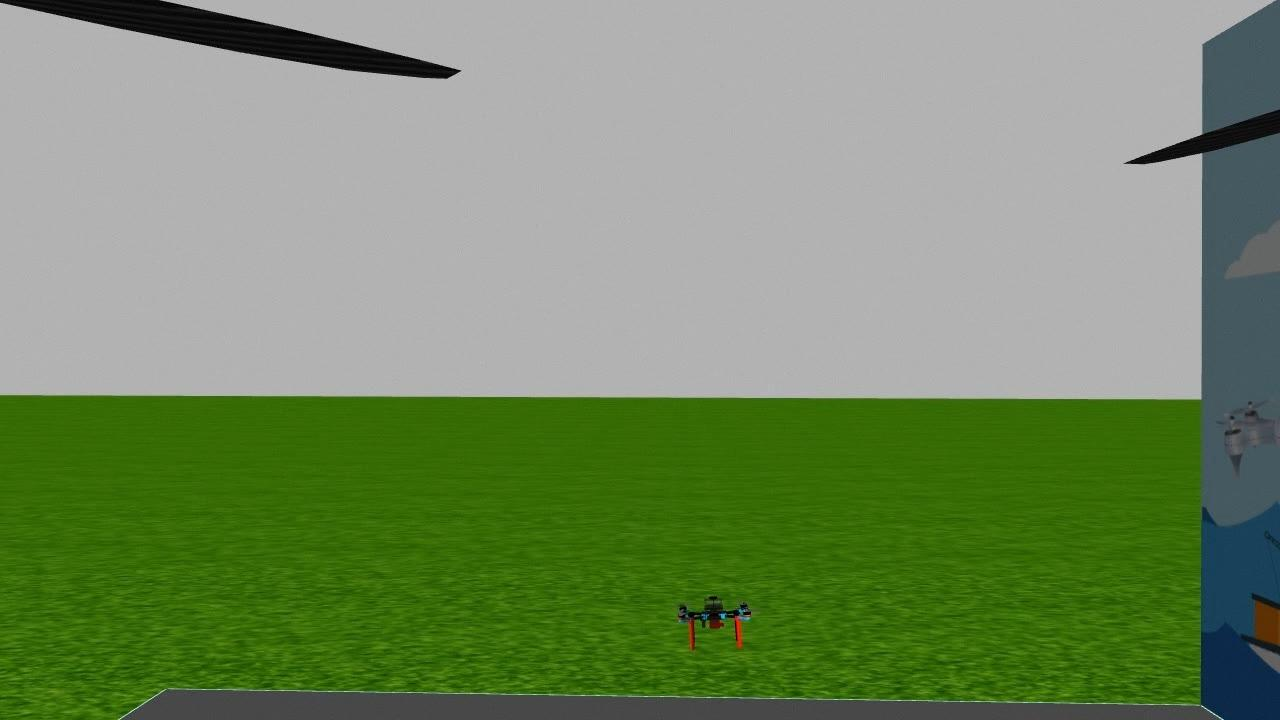UAV: (661, 586, 768, 655)
